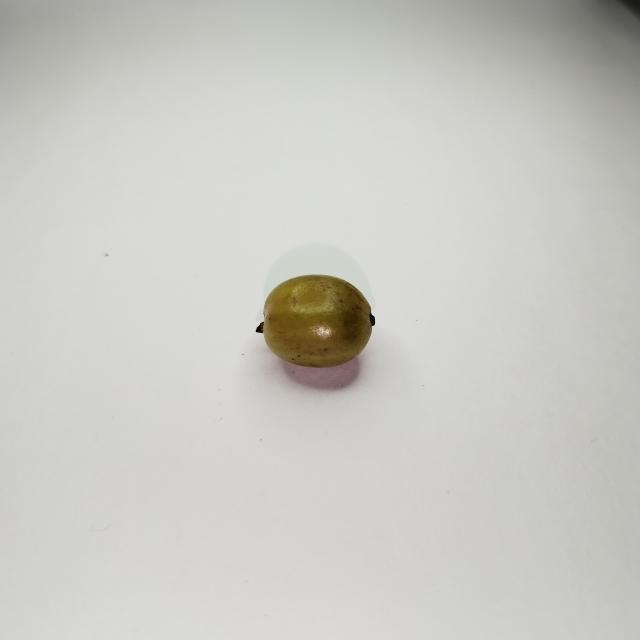Sano: (256, 274, 374, 367)
